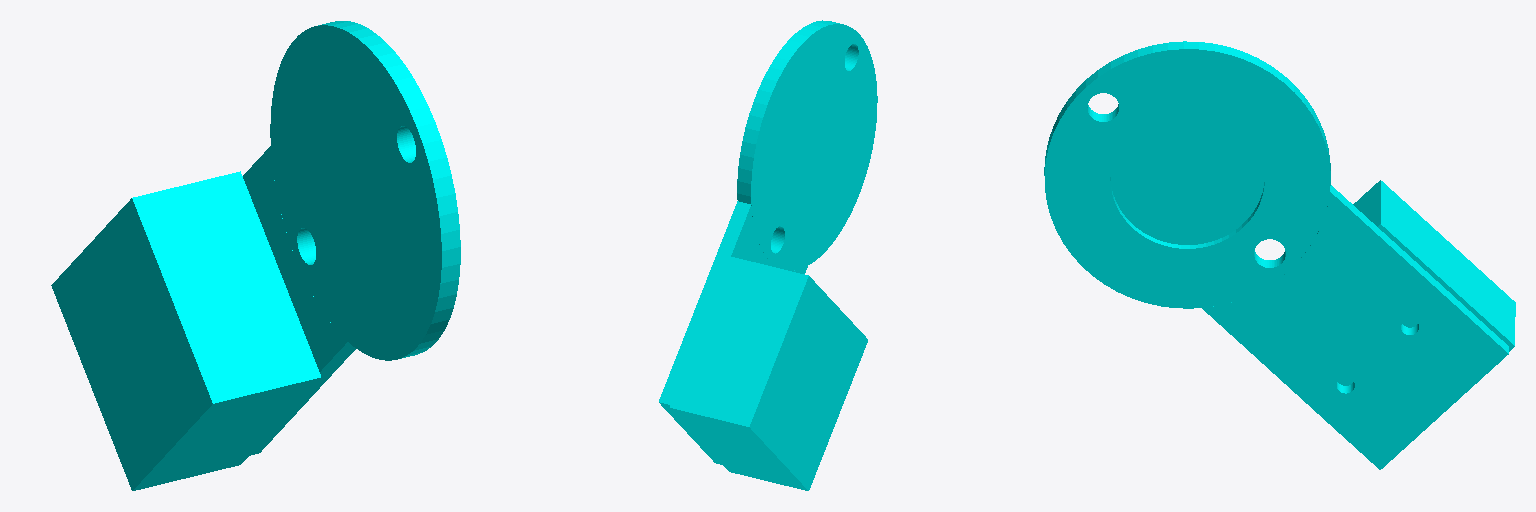
robot.urdf — panda:
<?xml version="1.0" ?>
<!-- =================================================================================== -->
<!-- |    This document was autogenerated by xacro from panda_arm_hand.urdf.xacro      | -->
<!-- |    EDITING THIS FILE BY HAND IS NOT RECOMMENDED                                 | -->
<!-- =================================================================================== -->
<robot name="panda" xmlns:xacro="http://www.ros.org/wiki/xacro">
  <link name="panda_link0">
  	<inertial>
      <origin rpy="0 0 0" xyz="0 0 0.05"/>
       <mass value="2.9"/>
       <inertia ixx="0.1" ixy="0" ixz="0" iyy="0.1" iyz="0" izz="0.1"/>
    </inertial>
    <visual>
      <geometry>
        <mesh filename="meshes/visual/link0.dae"/>
      </geometry>
      <material name="panda_white">
    		<color rgba="1. 1. 1. 1."/>
  		</material>
    </visual>
    <collision>
      <geometry>
        <mesh filename="meshes/collision/link0.stl"/>
      </geometry>
      <material name="panda_white"/>
    </collision>
  </link>
  <link name="panda_link1">
  	<inertial>
      <origin rpy="0 0 0" xyz="0 -0.04 -0.05"/>
       <mass value="2.7"/>
       <inertia ixx="0.1" ixy="0" ixz="0" iyy="0.1" iyz="0" izz="0.1"/>
    </inertial>
    <visual>
      <geometry>
        <mesh filename="meshes/visual/link1.dae"/>
      </geometry>
      <material name="panda_white"/>
    </visual>
    <collision>
      <geometry>
        <mesh filename="meshes/collision/link1.stl"/>
      </geometry>
      <material name="panda_white"/>
    </collision>
  </link>
  <joint name="panda_joint1" type="revolute">
    <safety_controller k_position="100.0" k_velocity="40.0" soft_lower_limit="-2.8973" soft_upper_limit="2.8973"/>
    <origin rpy="0 0 0" xyz="0 0 0.333"/>
    <parent link="panda_link0"/>
    <child link="panda_link1"/>
    <axis xyz="0 0 1"/>
    <limit effort="87" lower="-2.8973" upper="2.8973" velocity="2.1750"/>
  </joint>
  <link name="panda_link2">
  	<inertial>
      <origin rpy="0 0 0" xyz="0 -0.04 0.06"/>
       <mass value="2.73"/>
       <inertia ixx="0.1" ixy="0" ixz="0" iyy="0.1" iyz="0" izz="0.1"/>
    </inertial>
    <visual>
      <geometry>
        <mesh filename="meshes/visual/link2.dae"/>
      </geometry>
      <material name="panda_white"/>
    </visual>
    <collision>
      <geometry>
        <mesh filename="meshes/collision/link2.stl"/>
      </geometry>
      <material name="panda_white"/>
    </collision>
  </link>
  <joint name="panda_joint2" type="revolute">
    <safety_controller k_position="100.0" k_velocity="40.0" soft_lower_limit="-1.7628" soft_upper_limit="1.7628"/>
    <origin rpy="-1.57079632679 0 0" xyz="0 0 0"/>
    <parent link="panda_link1"/>
    <child link="panda_link2"/>
    <axis xyz="0 0 1"/>
    <limit effort="87" lower="-1.7628" upper="1.7628" velocity="2.1750"/>
  </joint>
  <link name="panda_link3">
	  <inertial>
      <origin rpy="0 0 0" xyz="0.01 0.01 -0.05"/>
       <mass value="2.04"/>
       <inertia ixx="0.1" ixy="0" ixz="0" iyy="0.1" iyz="0" izz="0.1"/>
    </inertial>
    <visual>
      <geometry>
        <mesh filename="meshes/visual/link3.dae"/>
      </geometry>
      <material name="panda_red">
    		<color rgba="1. 1. 1. 1."/>
  		</material>
    </visual>
    <collision>
      <geometry>
        <mesh filename="meshes/collision/link3.stl"/>
      </geometry>
    </collision>
  </link>
  <joint name="panda_joint3" type="revolute">
    <safety_controller k_position="100.0" k_velocity="40.0" soft_lower_limit="-2.8973" soft_upper_limit="2.8973"/>
    <origin rpy="1.57079632679 0 0" xyz="0 -0.316 0"/>
    <parent link="panda_link2"/>
    <child link="panda_link3"/>
    <axis xyz="0 0 1"/>
    <limit effort="87" lower="-2.8973" upper="2.8973" velocity="2.1750"/>
  </joint>
  <link name="panda_link4">
  	<inertial>
      <origin rpy="0 0 0" xyz="-0.03 0.03 0.02"/>
       <mass value="2.08"/>
       <inertia ixx="0.1" ixy="0" ixz="0" iyy="0.1" iyz="0" izz="0.1"/>
    </inertial>
    <visual>
      <geometry>
        <mesh filename="meshes/visual/link4.dae"/>
      </geometry>
      <material name="panda_white"/>
    </visual>
    <collision>
      <geometry>
        <mesh filename="meshes/collision/link4.stl"/>
      </geometry>
      <material name="panda_white"/>
    </collision>
  </link>
  <joint name="panda_joint4" type="revolute">
    <safety_controller k_position="100.0" k_velocity="40.0" soft_lower_limit="-3.0718" soft_upper_limit="-0.0698"/>
    <origin rpy="1.57079632679 0 0" xyz="0.0825 0 0"/>
    <parent link="panda_link3"/>
    <child link="panda_link4"/>
    <axis xyz="0 0 1"/>
    <limit effort="87" lower="-3.0718" upper="-0.0698" velocity="2.1750"/>
  </joint>
  <link name="panda_link5">
  	<inertial>
      <origin rpy="0 0 0" xyz="0 0.04 -0.12"/>
       <mass value="3"/>
       <inertia ixx="0.1" ixy="0" ixz="0" iyy="0.1" iyz="0" izz="0.1"/>
    </inertial>
    <visual>
      <geometry>
        <mesh filename="meshes/visual/link5.dae"/>
      </geometry>
      <material name="panda_white"/>
    </visual>
    <collision>
      <geometry>
        <mesh filename="meshes/collision/link5.stl"/>
      </geometry>
      <material name="panda_white"/>
    </collision>
  </link>
  <joint name="panda_joint5" type="revolute">
    <safety_controller k_position="100.0" k_velocity="40.0" soft_lower_limit="-2.8973" soft_upper_limit="2.8973"/>
    <origin rpy="-1.57079632679 0 0" xyz="-0.0825 0.384 0"/>
    <parent link="panda_link4"/>
    <child link="panda_link5"/>
    <axis xyz="0 0 1"/>
    <limit effort="12" lower="-2.8973" upper="2.8973" velocity="2.6100"/>
  </joint>
  <link name="panda_link6">
  	<inertial>
      <origin rpy="0 0 0" xyz="0.04 0 0"/>
       <mass value="1.3"/>
       <inertia ixx="0.1" ixy="0" ixz="0" iyy="0.1" iyz="0" izz="0.1"/>
    </inertial>
    <visual>
      <geometry>
        <mesh filename="meshes/visual/link6.dae"/>
      </geometry>
      <material name="panda_white"/>
    </visual>
    <collision>
      <geometry>
        <mesh filename="meshes/collision/link6.stl"/>
      </geometry>
      <material name="panda_white"/>
    </collision>
  </link>
  <joint name="panda_joint6" type="revolute">
    <safety_controller k_position="100.0" k_velocity="40.0" soft_lower_limit="-0.0175" soft_upper_limit="3.7525"/>
    <origin rpy="1.57079632679 0 0" xyz="0 0 0"/>
    <parent link="panda_link5"/>
    <child link="panda_link6"/>
    <axis xyz="0 0 1"/>
    <limit effort="12" lower="-0.0175" upper="3.7525" velocity="2.6100"/>
  </joint>
  <link name="panda_link7">
  	<inertial>
      <origin rpy="0 0 0" xyz="0 0 0.08"/>
       <mass value=".2"/>
       <inertia ixx="0.1" ixy="0" ixz="0" iyy="0.1" iyz="0" izz="0.1"/>
    </inertial>
    <visual>
      <geometry>
        <mesh filename="meshes/visual/link7.dae"/>
      </geometry>
      <material name="panda_white"/>
    </visual>
    <collision>
      <geometry>
        <mesh filename="meshes/collision/link7.stl"/>
      </geometry>
      <material name="panda_white"/>
    </collision>
  </link>
  <joint name="panda_joint7" type="revolute">
    <safety_controller k_position="100.0" k_velocity="40.0" soft_lower_limit="-2.8973" soft_upper_limit="2.8973"/>
    <origin rpy="1.57079632679 0 0" xyz="0.088 0 0"/>
    <parent link="panda_link6"/>
    <child link="panda_link7"/>
    <axis xyz="0 0 1"/>
    <limit effort="12" lower="-2.8973" upper="2.8973" velocity="2.6100"/>
  </joint>
  <link name="panda_link8">
  	 <inertial>
      <origin rpy="0 0 0" xyz="0 0 0"/>
       <mass value="0.0"/>
       <inertia ixx="0.1" ixy="0" ixz="0" iyy="0.1" iyz="0" izz="0.1"/>
    </inertial>
  </link>
  <joint name="panda_joint8" type="fixed">
    <origin rpy="0 0 0" xyz="0 0 0.107"/>
    <parent link="panda_link7"/>
    <child link="panda_link8"/>
    <axis xyz="0 0 0"/>
  </joint>
  <joint name="panda_hand_joint" type="fixed">
    <parent link="panda_link8"/>
    <child link="panda_hand"/>
    <origin rpy="0 0 -0.785398163397" xyz="0 0 0.004"/>
  </joint>
  <link name="panda_hand">
  	<inertial>
      <origin rpy="0 0 0" xyz="0 0 0.04"/>
       <mass value=".81"/>
       <inertia ixx="0.1" ixy="0" ixz="0" iyy="0.1" iyz="0" izz="0.1"/>
    </inertial>
    <visual>
      <geometry>
        <mesh filename="meshes/visual/hand.dae"/>
      </geometry>
      <material name="panda_white"/>
    </visual>
    <collision>
      <geometry>
        <mesh filename="meshes/collision/hand.stl"/>
      </geometry>
      <material name="panda_white"/>
    </collision>
  </link>

  <link name="panda_leftfinger">
       <contact>
      <friction_anchor/>
      <stiffness value="30000.0"/>
      <damping value="1000.0"/>
      <spinning_friction value="0.1"/>
      <lateral_friction value="1.0"/>
    </contact>
  	<inertial>
      <origin rpy="0 0 0" xyz="0 0.01 0.02"/>
       <mass value="0.1"/>
       <inertia ixx="0.1" ixy="0" ixz="0" iyy="0.1" iyz="0" izz="0.1"/>
    </inertial>
    <visual>
    <origin rpy="0 0 3.14159265359" xyz="0 0 0"/>
      <geometry>
        <mesh filename="mesh/finray_finger/finray_finger_visual.obj"/>
      </geometry>
      <material name="panda_white"/>
    </visual>
    <collision>
    <origin rpy="0 0 3.14159265359" xyz="0 0 0"/>
      <geometry>
        <mesh filename="mesh/finray_finger/finray_finger_collision.obj"/>
      </geometry>
      <material name="panda_white"/>
    </collision>
  </link>
  <link name="panda_rightfinger">
        <contact>
      <friction_anchor/>
      <stiffness value="30000.0"/>
      <damping value="1000.0"/>
      <spinning_friction value="0.1"/>
      <lateral_friction value="1.0"/>
    </contact>

  	<inertial>
      <origin rpy="0 0 0" xyz="0 -0.01 0.02"/>
       <mass value="0.1"/>
       <inertia ixx="0.1" ixy="0" ixz="0" iyy="0.1" iyz="0" izz="0.1"/>
    </inertial>
    <visual>
      <geometry>
        <mesh filename="mesh/finray_finger/finray_finger_visual.obj"/>
      </geometry>
      <material name="panda_white"/>
    </visual>
    <collision>
      <geometry>
        <mesh filename="mesh/finray_finger/finray_finger_collision.obj"/>
      </geometry>
      <material name="panda_white"/>
    </collision>
  </link>
  <joint name="panda_finger_joint1" type="prismatic">
    <parent link="panda_hand"/>
    <child link="panda_leftfinger"/>
    <origin rpy="0 0 0" xyz="0 0 0.0584"/>
    <axis xyz="0 1 0"/>
    <limit effort="20" lower="0.0" upper="0.04" velocity="0.2"/>
  </joint>
  <joint name="panda_finger_joint2" type="prismatic">
    <parent link="panda_hand"/>
    <child link="panda_rightfinger"/>
    <origin rpy="0 0 0" xyz="0 0 0.0584"/>
    <axis xyz="0 -1 0"/>
    <limit effort="20" lower="0.0" upper="0.04" velocity="0.2"/>
    <mimic joint="panda_finger_joint1"/>
  </joint>

  <joint name="camera_joint" type="fixed">
    <parent link="panda_hand"/>
    <child link="camera_mount"/>
    <origin rpy="1.57 0 -1.57" xyz="0 0 0"/>
  </joint>

  <link name="camera_mount">
    <visual>
      <origin rpy="0 0 0" xyz="0 0 0"/>
      <geometry>
        <mesh filename="mesh/camera/d405_mount.obj"/>
      </geometry>
      <material name="Cyan">
        <color rgba="0 1.0 1.0 1.0"/>
      </material>
    </visual>
    <collision>
      <geometry>
        <mesh filename="mesh/camera/d405_mount.obj"/>
      </geometry>
    </collision>
  </link>

  <joint name="camera_joint2" type="fixed">
    <parent link="camera_mount"/>
    <child link="camera"/>
    <origin rpy="0 0 0" xyz="0 0 0"/>
  </joint>

  <link name="camera">
    <visual>
      <origin rpy="0 0 0" xyz="0.0 .0115 -0.06"/>
      <geometry>
        <box size="0.042 0.023 .042" />
      </geometry>
      <material name="Cyan">
        <color rgba="0 1.0 1.0 1.0"/>
      </material>
    </visual>
    <collision>
      <geometry>
        <box size="0.042 0.023 .042" />
      </geometry>
    </collision>
  </link>

  

  <link name="right_gripper">
    <inertial>
      <!-- Dummy inertial parameters to avoid link lumping-->
      <mass value="0.01"/>
      <inertia ixx="0.0001" ixy="0.0" ixz="0.0" iyy="0.0001" iyz="0.0" izz="0.0001"/>
      <origin rpy="0 0 0" xyz="0 0 0"/>
    </inertial>
  </link>
  <joint name="right_gripper" type="fixed">
    <origin rpy="0 0 2.35619449019" xyz="0 0 0.1"/>
      <axis xyz="0 0 1"/>
    <parent link="panda_link8"/>
    <child link="right_gripper"/>
  </joint>
   <link name="panda_grasptarget">
 <inertial>
      <origin rpy="0 0 0" xyz="0 0 0"/>
       <mass value="0.0"/>
       <inertia ixx="0.1" ixy="0" ixz="0" iyy="0.1" iyz="0" izz="0.1"/>
    </inertial>
   </link>
   <joint name="panda_grasptarget_hand" type="fixed">
    <parent link="panda_hand"/>
    <child link="panda_grasptarget"/>
    <origin rpy="0 0 0" xyz="0 0 0.105"/>
  </joint>

</robot>

--- Render facts (derived) ---
Views: 3 orthographic renders of the robot side by side, from view 1: azimuth 30°, elevation 25°; view 2: azimuth 150°, elevation 25°; view 3: azimuth 270°, elevation 25°.
Model panda with 16 links and 15 joints (7 revolute, 2 prismatic, 6 fixed), rooted at panda_link0, posed all joints at 0 but 1 set to mid-range because 0 is outside their limits (panda_joint4 = -1.57).
Visible links, largest first — view 1: camera, camera_mount; view 2: camera, camera_mount; view 3: camera_mount, camera.
Boxes of the visible links, left/top/right/bottom form: camera: left=51, top=171, right=321, bottom=490; camera_mount: left=243, top=21, right=460, bottom=455; camera: left=670, top=256, right=867, bottom=490; camera_mount: left=659, top=20, right=877, bottom=464; camera_mount: left=1044, top=41, right=1508, bottom=469; camera: left=1338, top=180, right=1515, bottom=385.
Bounding box of the posed robot: 0.027 × 0.1036 × 0.1037 m (x, y, z).
Meshes: 11 distinct files referenced, 1 mesh visuals loaded (1 OBJ); not drawn: 11 (reference not matched to a file when rendering).